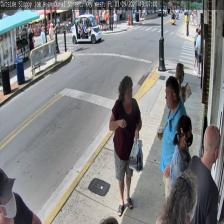person: (108, 76, 142, 216), (159, 75, 186, 223), (181, 124, 220, 222), (170, 114, 192, 224), (0, 168, 41, 224), (171, 63, 185, 164)
